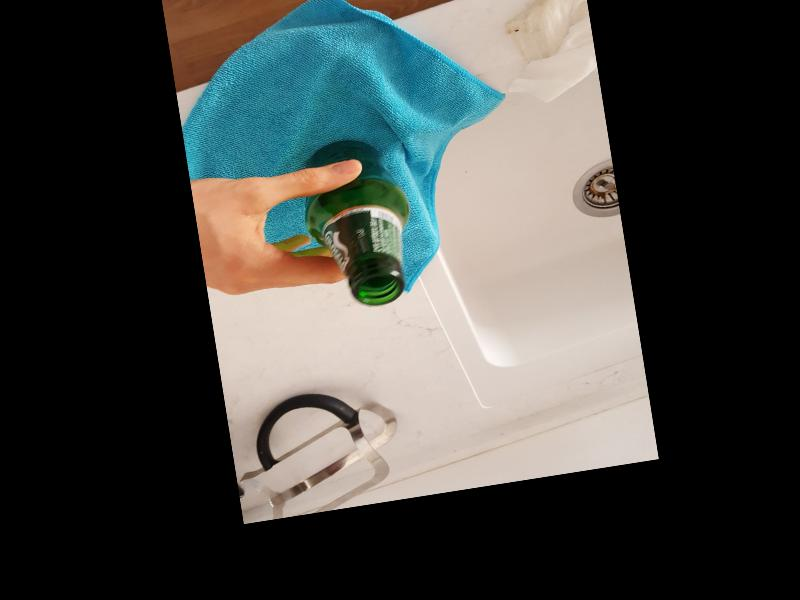Beer: (302, 130, 421, 310)
